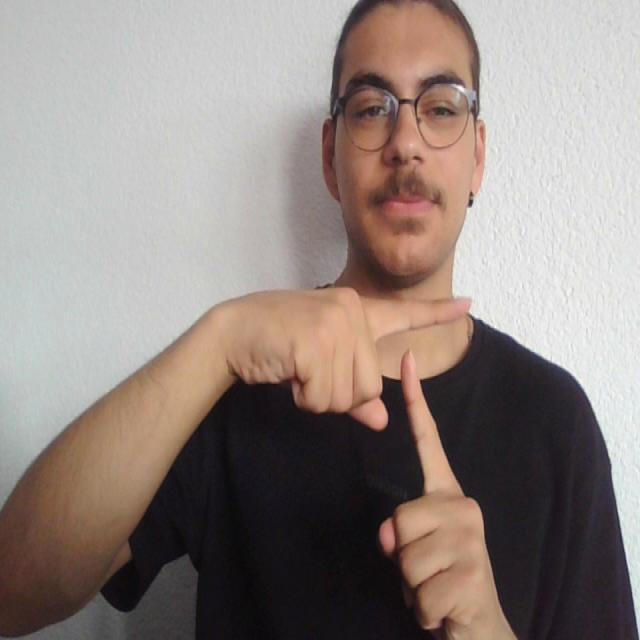Tesekkurler: (358, 275, 476, 505)
